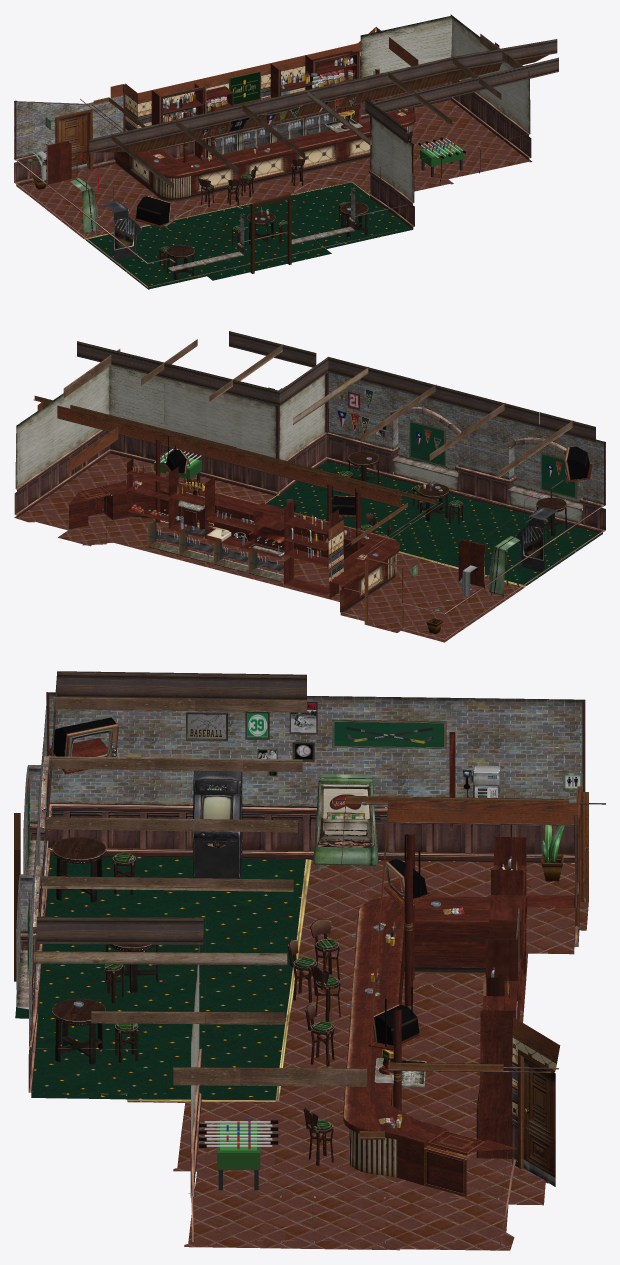
File: room_bar.glb
3 views of the same model, one above another, from view 1: azimuth 30°, elevation 25°; view 2: azimuth 150°, elevation 25°; view 3: azimuth 270°, elevation 25° (orthographic). The views are drawn at different scales.
Visible parts, largest first — view 1: bar_FrontSide_23, bar_FrontSide_13, bar_FrontSide_28, bar_FrontSide_24, bar_FrontSide_0, bar_FrontSide_9, bar_FrontSide_16, bar_FrontSide_10, bar_FrontSide_35, bar_FrontSide_14, bar_FrontSide_2, bar_FrontSide_15 (+13 smaller); view 2: bar_FrontSide_0, bar_FrontSide_13, bar_FrontSide_24, bar_FrontSide_28, bar_FrontSide_9, bar_FrontSide_23, bar_FrontSide_66, bar_FrontSide_16, bar_FrontSide_14, bar_FrontSide_35, bar_FrontSide_64, bar_FrontSide_10 (+12 smaller); view 3: bar_FrontSide_13, bar_FrontSide_23, bar_FrontSide_28, bar_FrontSide_24, bar_FrontSide_66, bar_FrontSide_9, bar_FrontSide_14, bar_FrontSide_35, bar_FrontSide_16, bar_FrontSide_30, bar_FrontSide_15, bar_FrontSide_11 (+16 smaller).
Part boxes in pixels (box(x1,y1,x2,y2)): bar_FrontSide_23: box(85, 182, 412, 289); bar_FrontSide_13: box(17, 100, 532, 238); bar_FrontSide_28: box(89, 33, 558, 198); bar_FrontSide_24: box(46, 50, 415, 265); bar_FrontSide_0: box(360, 14, 530, 202); bar_FrontSide_9: box(14, 48, 531, 289); bar_FrontSide_16: box(110, 27, 499, 130); bar_FrontSide_10: box(81, 55, 548, 152); bar_FrontSide_35: box(84, 69, 374, 279); bar_FrontSide_14: box(14, 106, 355, 245); bar_FrontSide_2: box(208, 112, 336, 156); bar_FrontSide_15: box(55, 56, 360, 170); bar_FrontSide_0: box(15, 365, 582, 523); bar_FrontSide_13: box(14, 453, 524, 642); bar_FrontSide_24: box(69, 430, 577, 614); bar_FrontSide_28: box(63, 331, 595, 579); bar_FrontSide_9: box(14, 372, 605, 639); bar_FrontSide_23: box(266, 461, 602, 585); bar_FrontSide_66: box(328, 372, 605, 473); bar_FrontSide_16: box(37, 401, 401, 581); bar_FrontSide_14: box(328, 401, 605, 504); bar_FrontSide_35: box(168, 407, 582, 587); bar_FrontSide_64: box(375, 420, 576, 499); bar_FrontSide_10: box(34, 396, 434, 544); bar_FrontSide_13: box(127, 860, 588, 1250); bar_FrontSide_23: box(15, 855, 305, 1100); bar_FrontSide_28: box(33, 671, 519, 1177); bar_FrontSide_24: box(26, 720, 578, 1186); bar_FrontSide_66: box(16, 692, 582, 988); bar_FrontSide_9: box(16, 692, 605, 1244); bar_FrontSide_14: box(16, 749, 582, 1043); bar_FrontSide_35: box(16, 755, 420, 1101); bar_FrontSide_16: box(368, 800, 578, 1130); bar_FrontSide_30: box(104, 852, 340, 1165); bar_FrontSide_15: box(393, 786, 588, 1186); bar_FrontSide_11: box(46, 738, 484, 1197).
Size of what is drawn, in the model's own units: 19.14 by 3.9 by 10.91.
75 materials, 67 textured.
